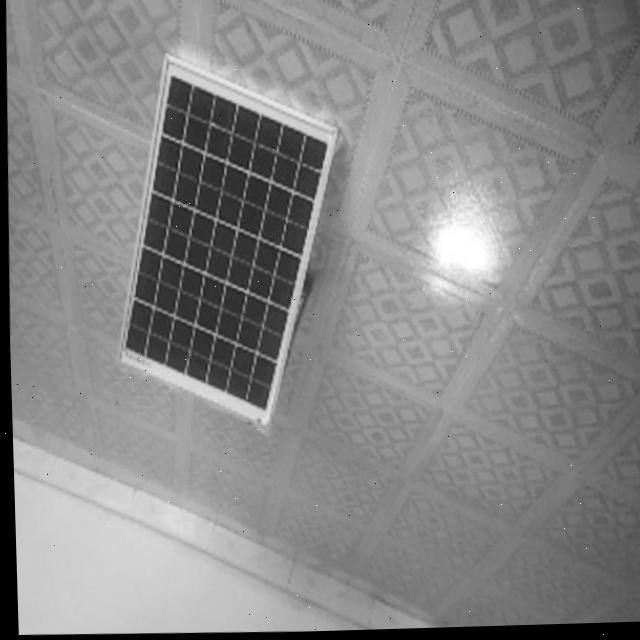Normal Solar Panel: (108, 50, 340, 431)
